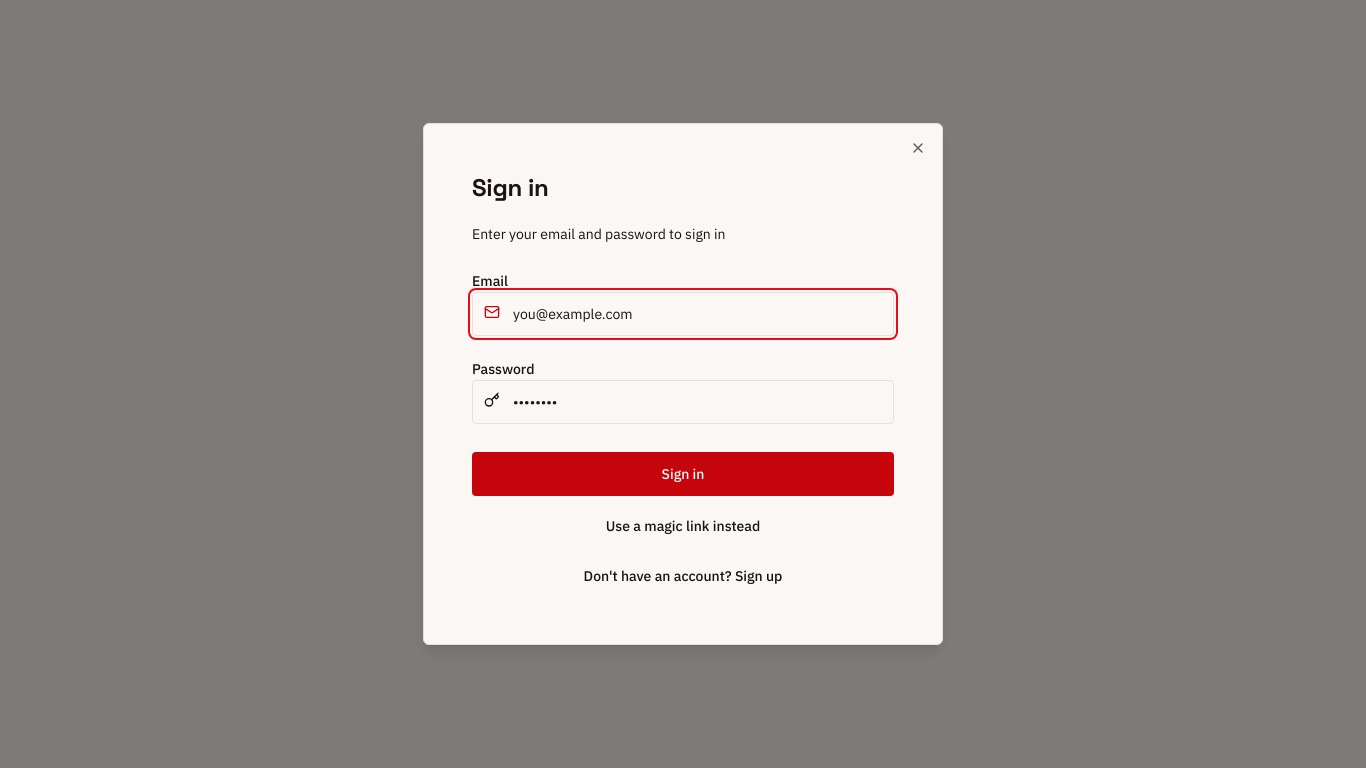
LoginDialog › surfaces an error message when sign-in fails
This screenshot has width=1366, height=768.
Step 1. Type "badger@wisc.edu" into the field labelled "Email" → (683,314), box left=472, top=292, right=894, bottom=336
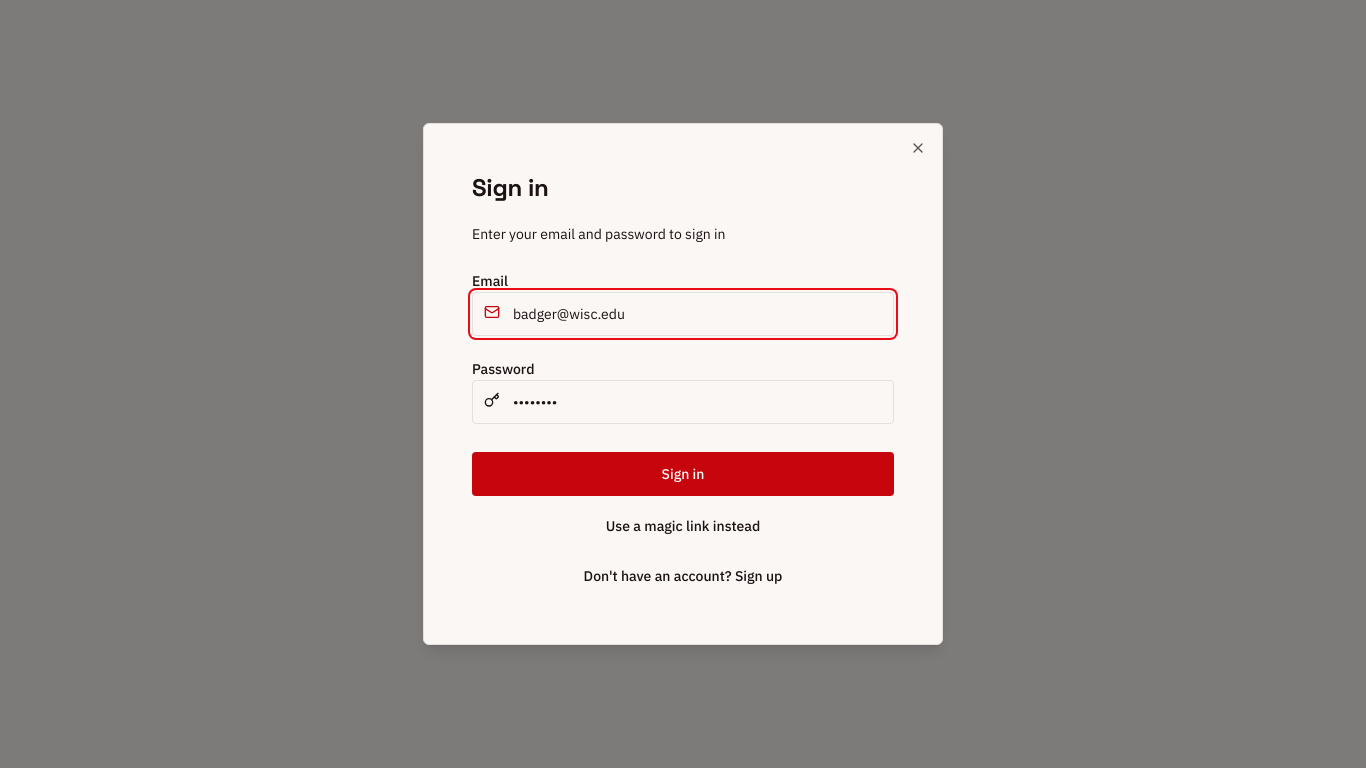
Step 2. Type "wrong" into the password field labelled "Password" → (683,402), box left=472, top=380, right=894, bottom=424
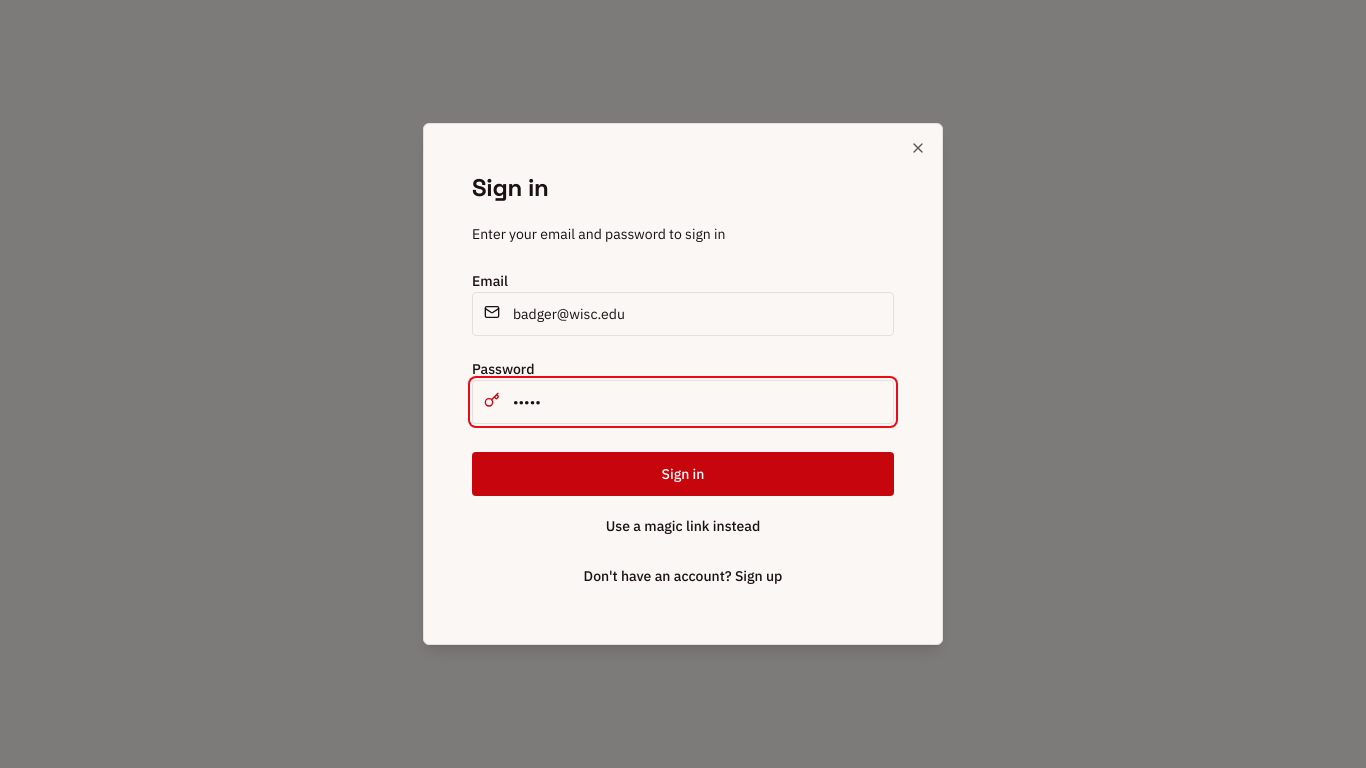
Step 3. Click the button "Sign in" → (683,474), box left=472, top=452, right=894, bottom=496
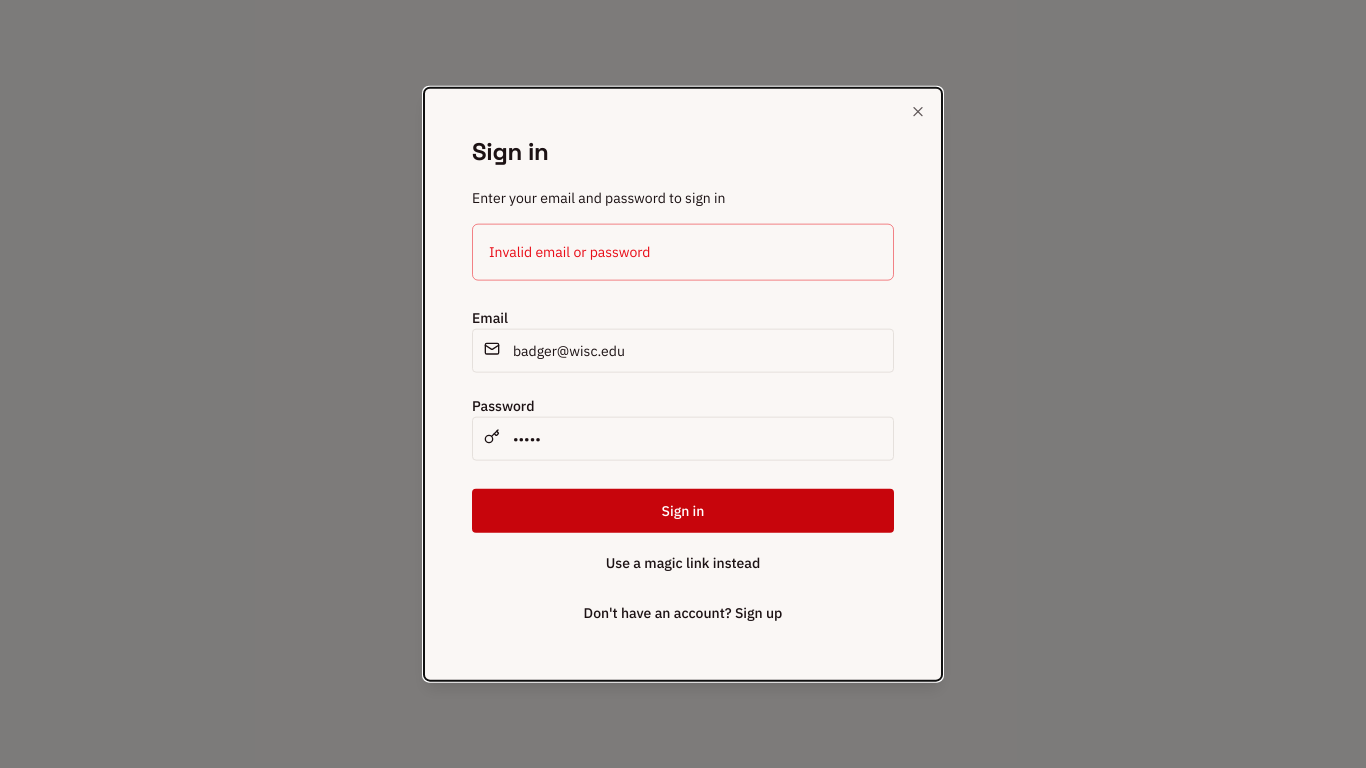
Check: the text "Invalid email or password" is shown, box left=489, top=243, right=650, bottom=261
